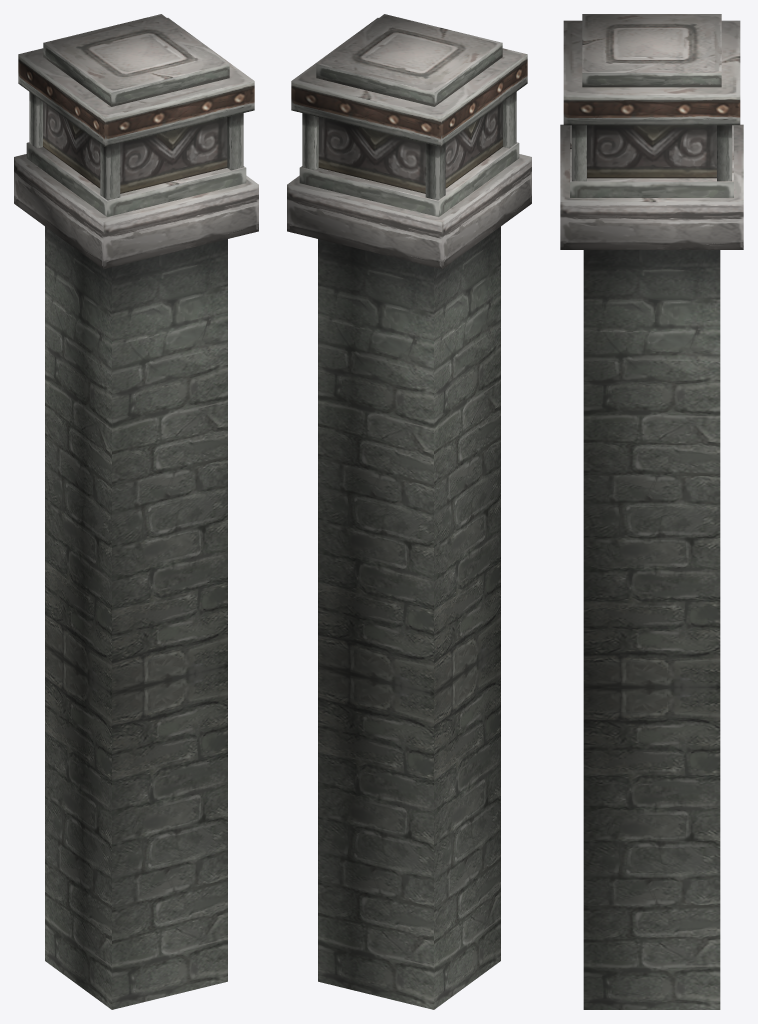
File: unity_dungeon_pillar03.FBX
3 views of the same model, side by side, from view 1: azimuth 30°, elevation 25°; view 2: azimuth 150°, elevation 25°; view 3: azimuth 270°, elevation 25° (orthographic). The views are drawn at different scales.
Visible parts, largest first — view 1: unity_dungeon_pillar03; view 2: unity_dungeon_pillar03; view 3: unity_dungeon_pillar03.
Boxes of the visible parts, bbox=[...] form: unity_dungeon_pillar03: bbox=[14, 14, 258, 1009]; unity_dungeon_pillar03: bbox=[287, 14, 531, 1009]; unity_dungeon_pillar03: bbox=[560, 14, 743, 1009].
Size of the model in its own units: 4.89 by 27.62 by 4.89.
